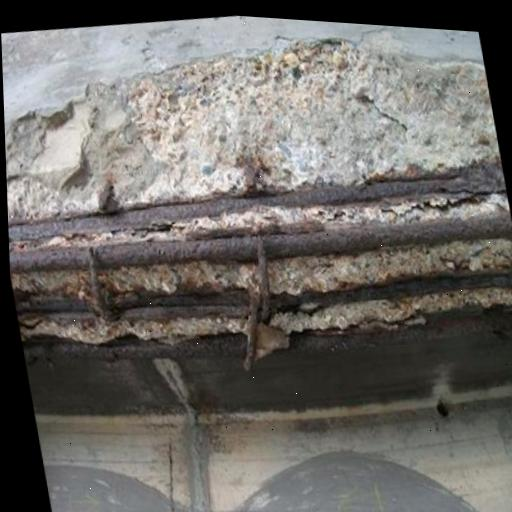exposed_rebar: (8, 165, 507, 242), (264, 213, 512, 260), (272, 271, 512, 313), (95, 236, 258, 269), (118, 290, 248, 311), (9, 248, 89, 273), (243, 286, 259, 372), (88, 246, 107, 317), (258, 235, 271, 324), (17, 299, 88, 314)
spalling: (5, 40, 512, 368)
